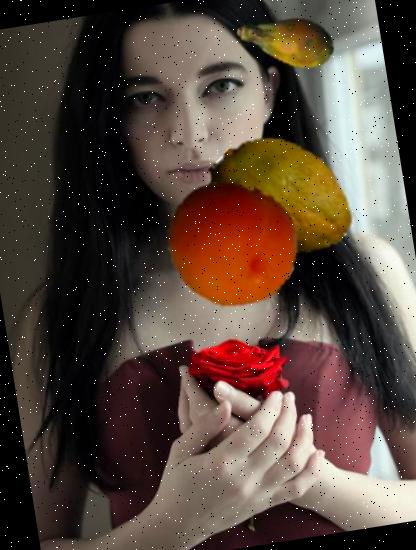Apricot: (156, 168, 309, 320)
Cactus: (230, 0, 343, 96)
Papaya: (198, 117, 362, 281)
